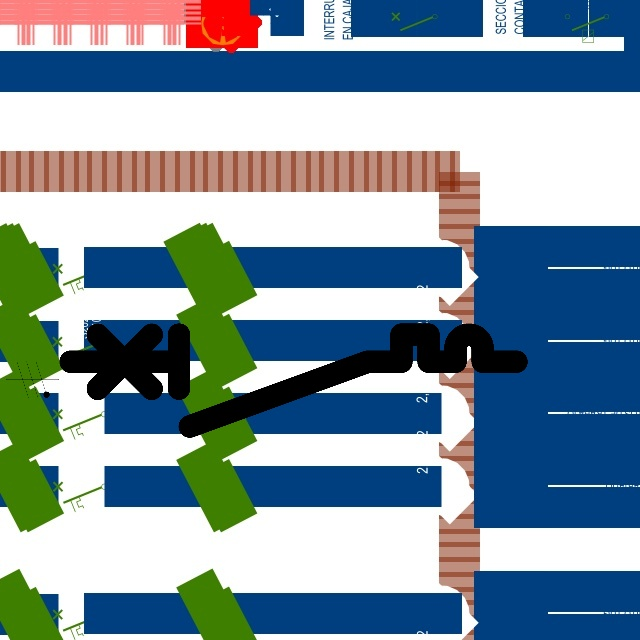interruptor_termomagnetico: (59, 323, 528, 438)
